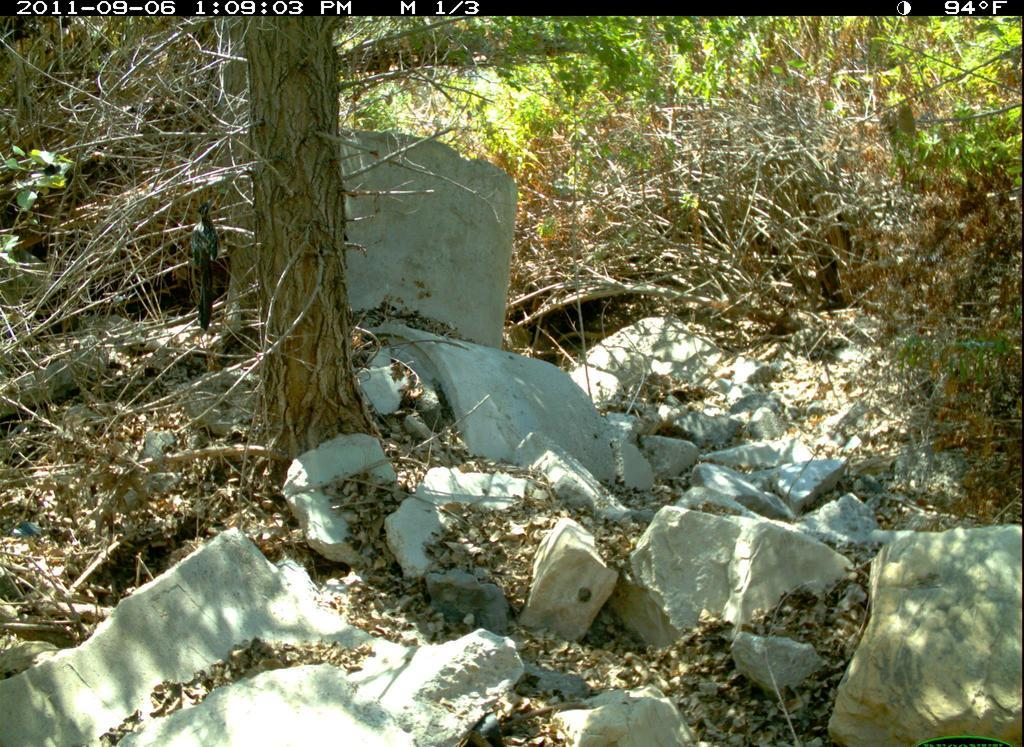bird: (186, 197, 225, 336)
